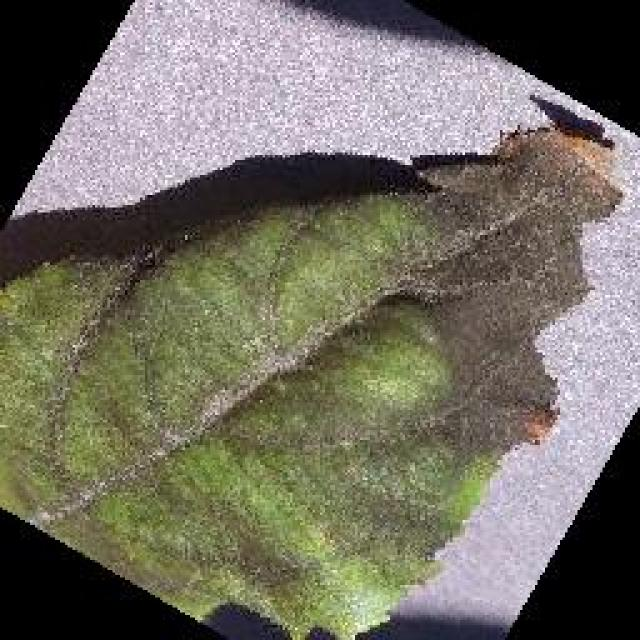apple scab disease: (0, 98, 625, 638)
